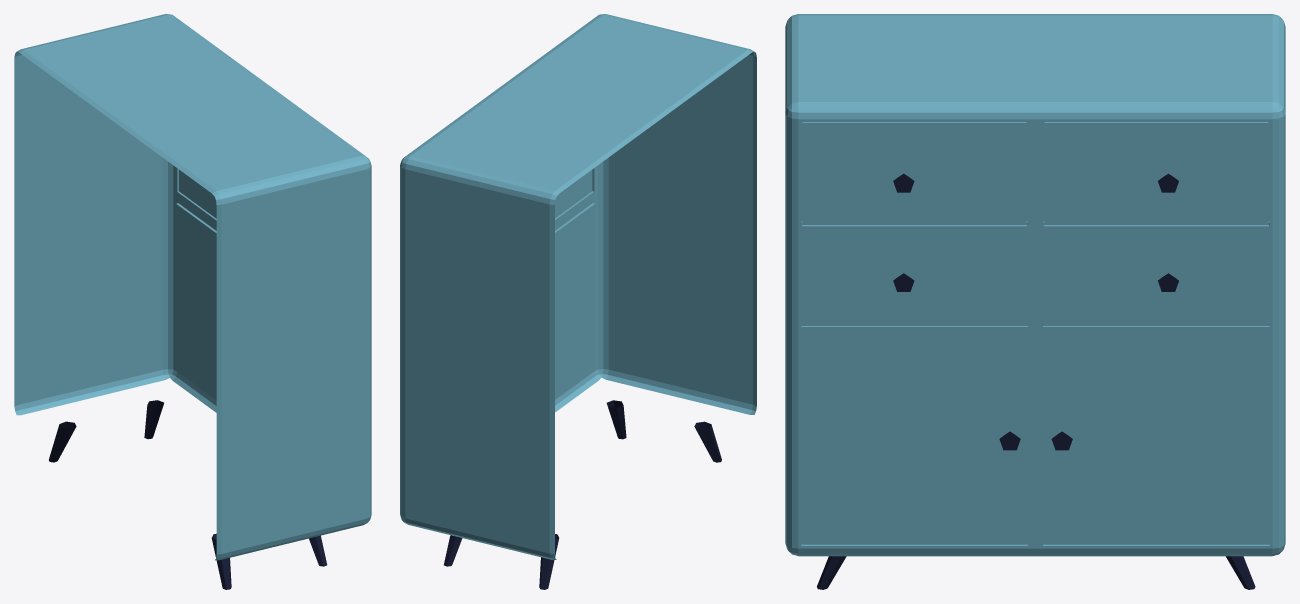
Rendered from sifonyer.fbx.
3 views of the same model, side by side, from view 1: azimuth 30°, elevation 25°; view 2: azimuth 150°, elevation 25°; view 3: azimuth 270°, elevation 25° (orthographic). The views are drawn at different scales.
Parts seen in each view (by area): view 1: sifonyer; view 2: sifonyer; view 3: sifonyer.
Part boxes in pixels (x1=…): sifonyer: x1=14, y1=14, x2=371, y2=589; sifonyer: x1=400, y1=14, x2=756, y2=589; sifonyer: x1=785, y1=14, x2=1285, y2=589.
Size of the model in its own units: 52.63 by 124 by 112.
